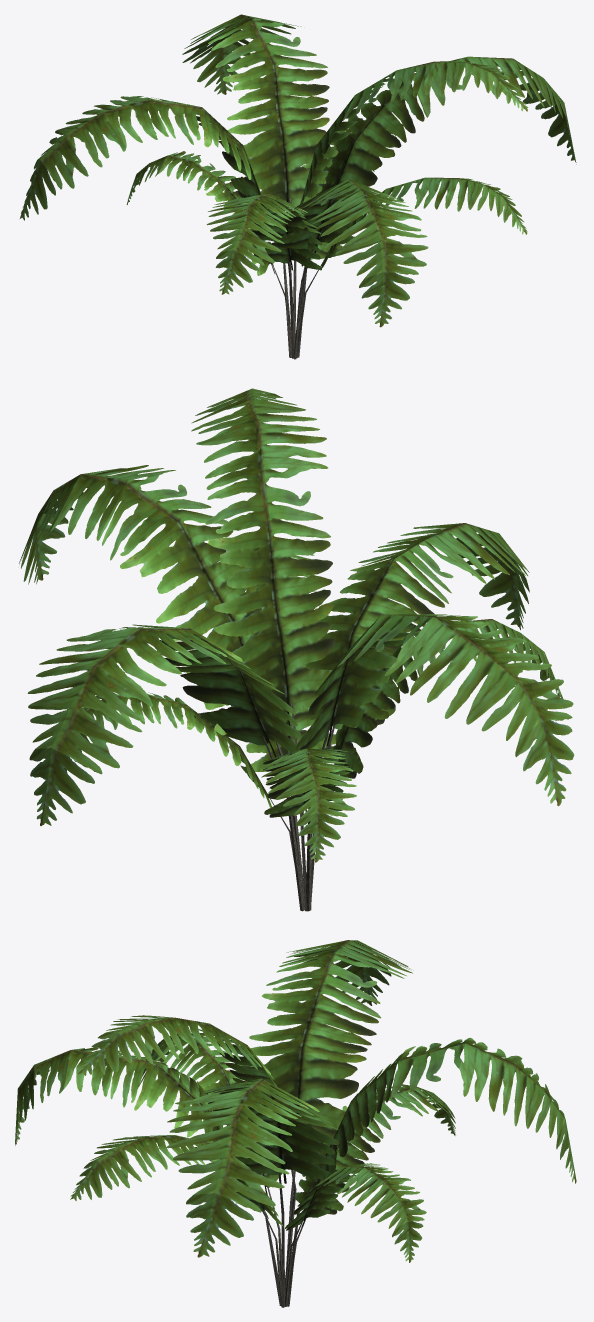
The model's file is Fern-03.fbx.
The picture shows the model from 3 angles, top to bottom: view 1: azimuth 30°, elevation 25°; view 2: azimuth 150°, elevation 25°; view 3: azimuth 270°, elevation 25°; orthographic projection. The views are drawn at different scales.
Visible parts, largest first — view 1: Fern-03; view 2: Fern-03; view 3: Fern-03.
Part boxes in pixels (x1,y1,x2,y2): Fern-03: (20, 14, 576, 359); Fern-03: (19, 388, 574, 911); Fern-03: (15, 940, 576, 1307).
Size of the model in its own units: 2.88 by 1.8 by 2.71.
